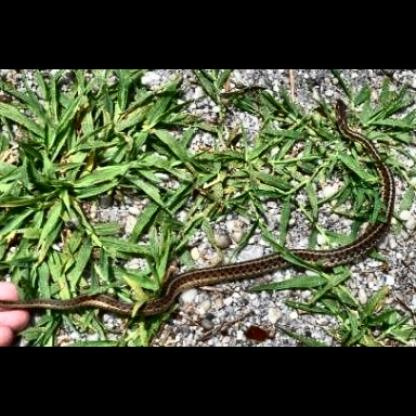Snake: (0, 242, 399, 328), (326, 88, 390, 168)
